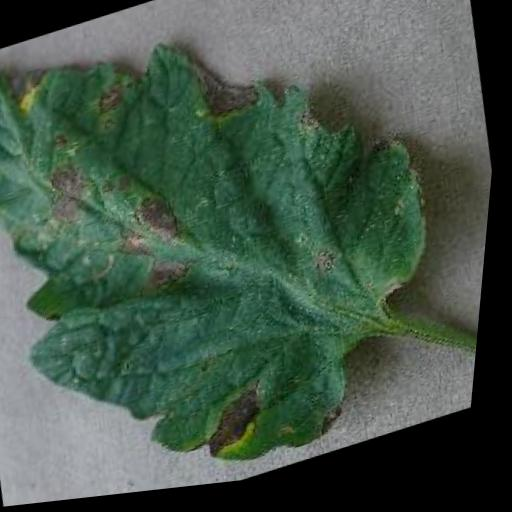Early Blight: (0, 0, 494, 512)
